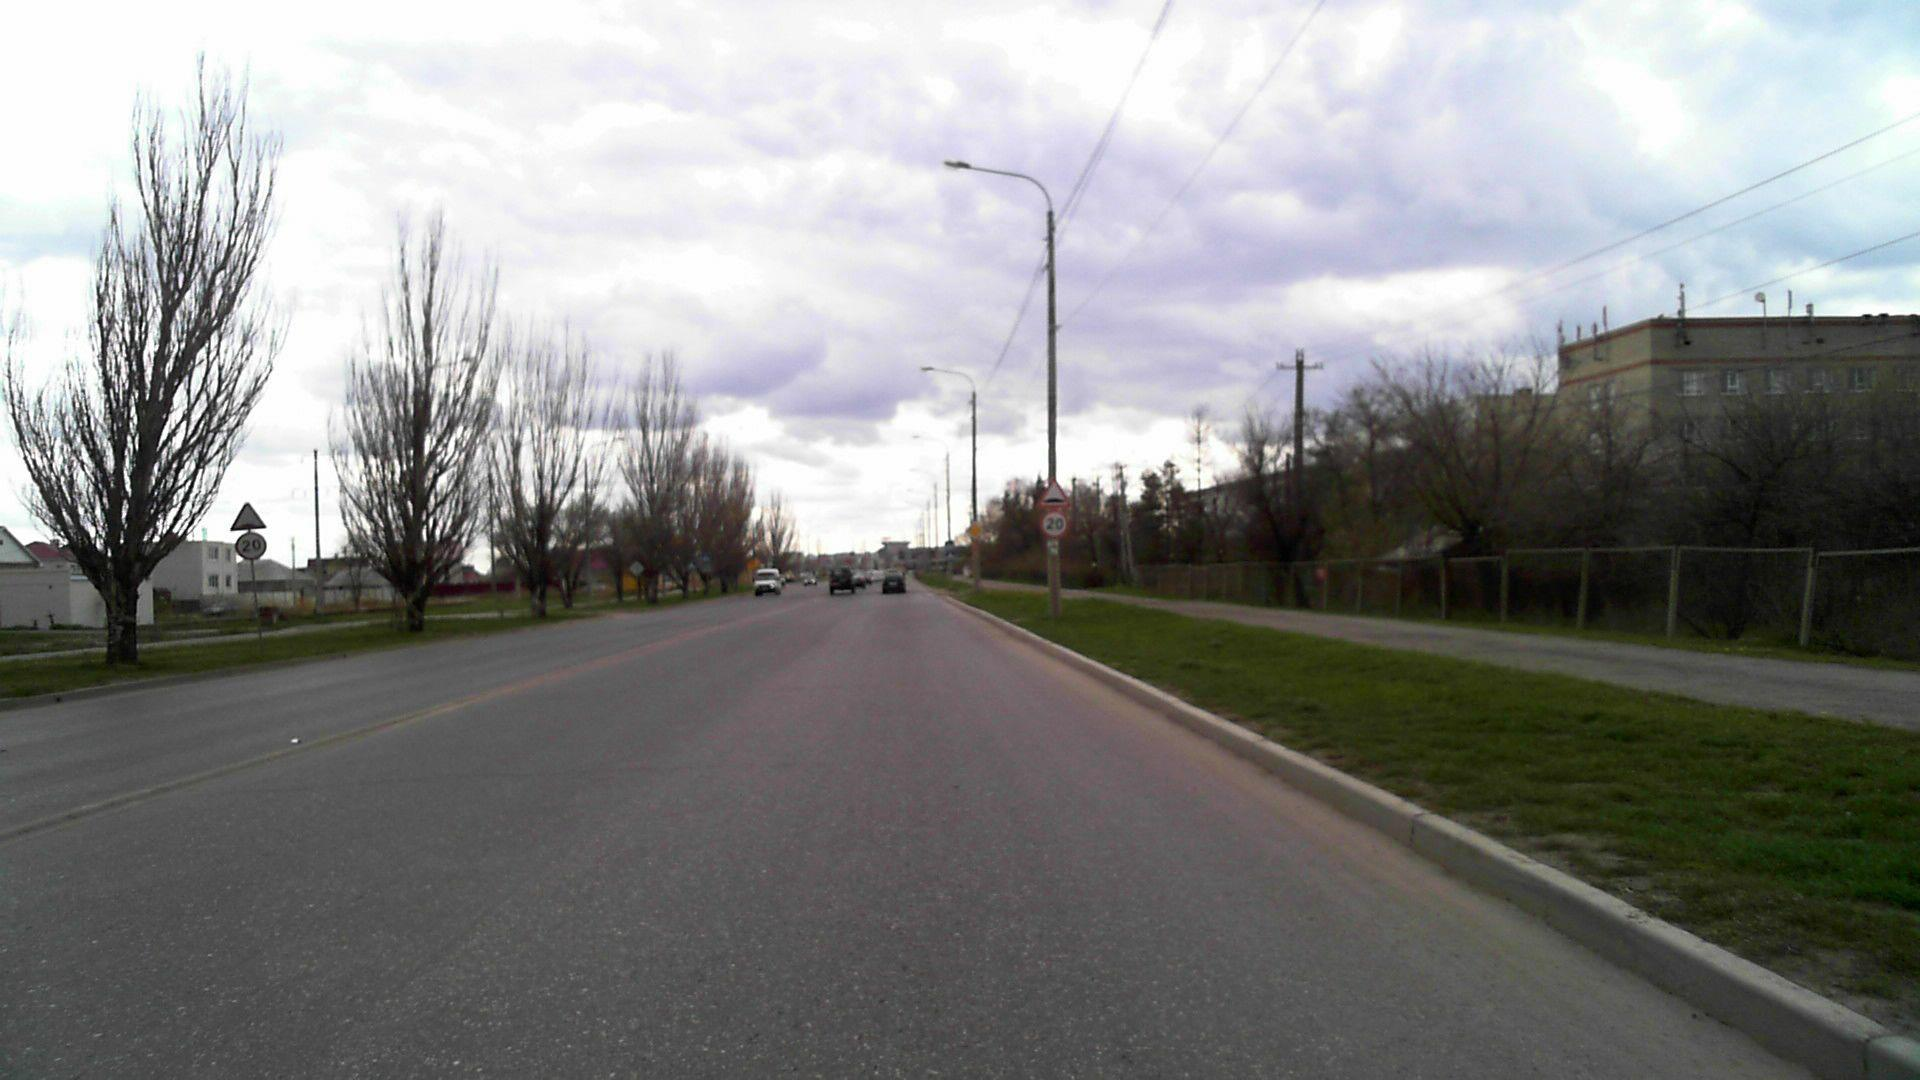1_17: (1036, 477, 1071, 509), (229, 502, 266, 530)
2_1: (965, 521, 984, 542)
3_24: (235, 533, 268, 559), (1039, 512, 1067, 537)
5_19_1: (944, 541, 955, 551)
5_19_2: (702, 553, 711, 563)
5_20: (944, 551, 955, 560), (687, 562, 695, 571)
